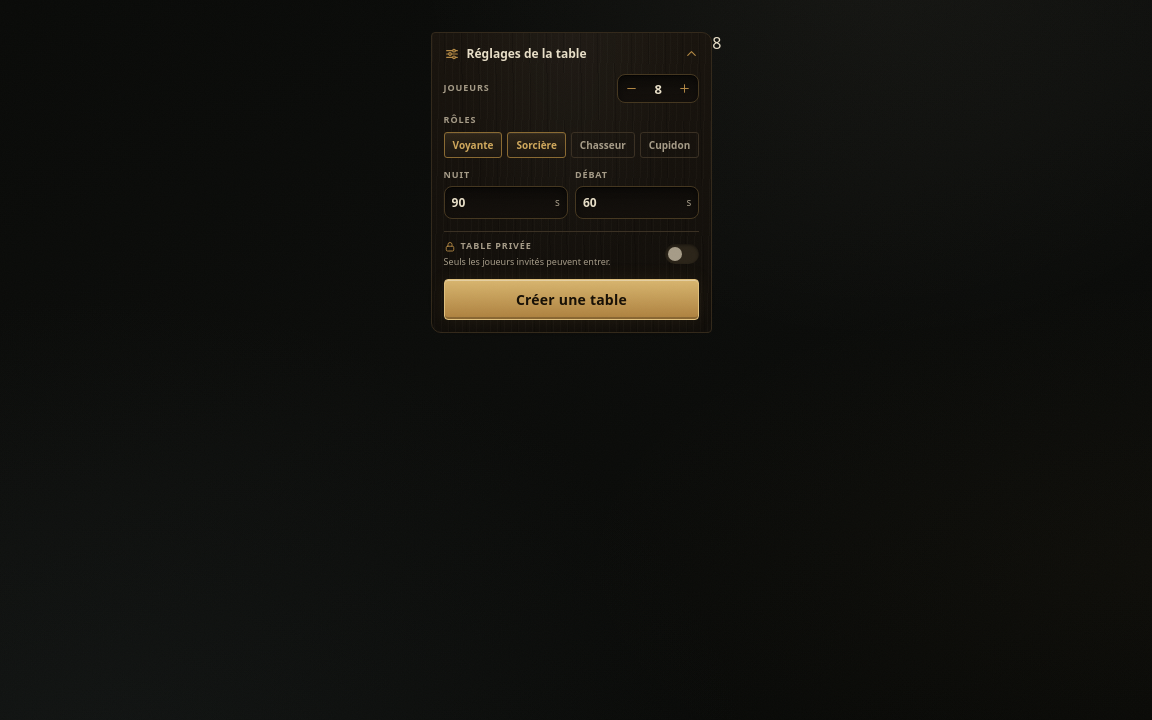
TableSettingsCard › modifie le nombre de joueurs dans les bornes
Expected: the text with test id "players" reads "8", [712, 32, 721, 54]
Click the button named "Ajouter un joueur".
click(685, 88)  # box [671, 75, 698, 102]
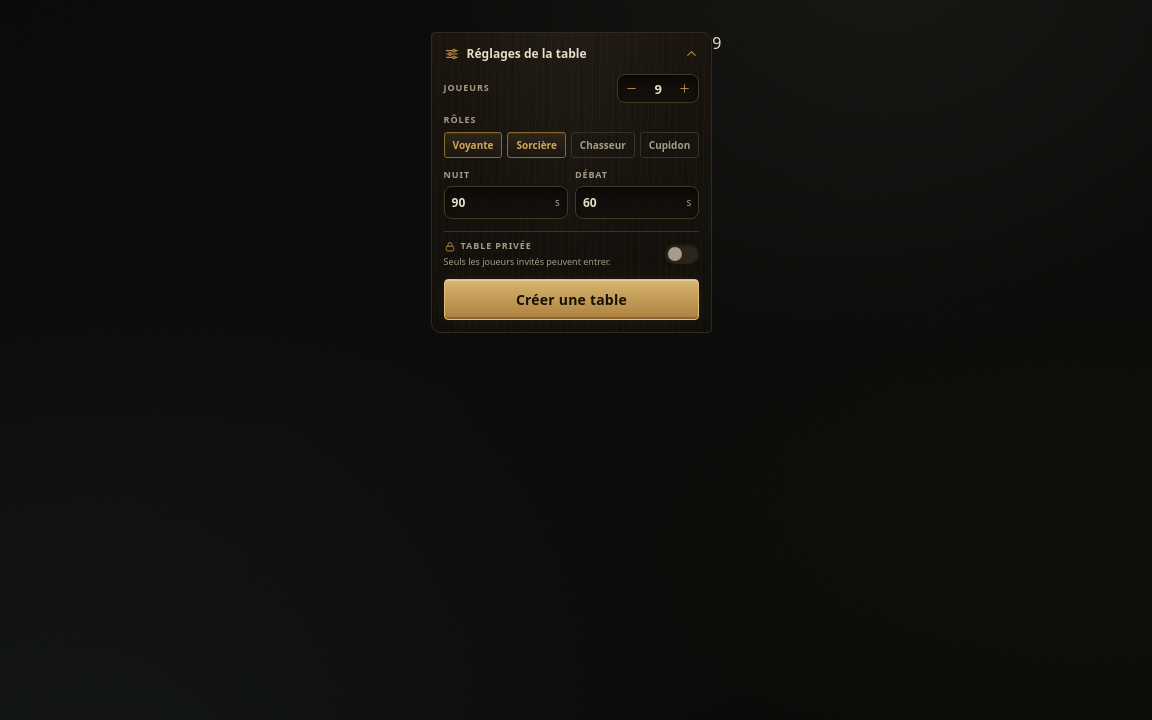
Expected: the text with test id "players" reads "9", [712, 32, 721, 54]
Click the button named "Retirer un joueur".
click(632, 88)  # box [618, 75, 645, 102]
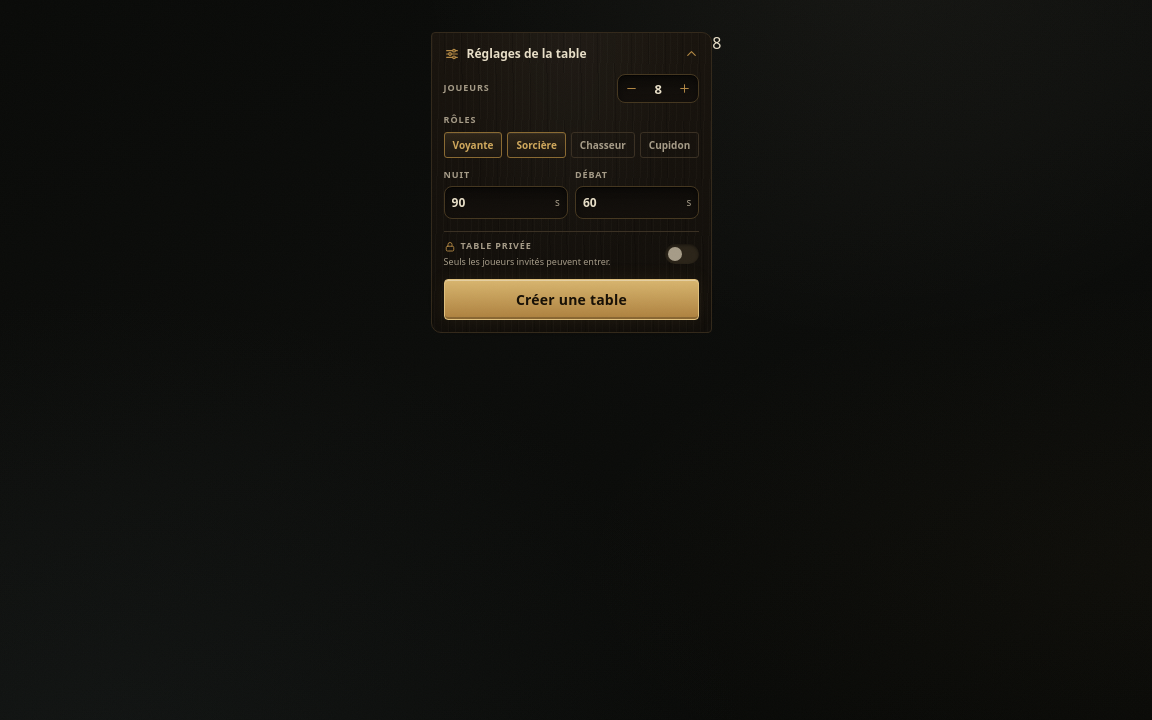
Expected: the text with test id "players" reads "8", [712, 32, 721, 54]
